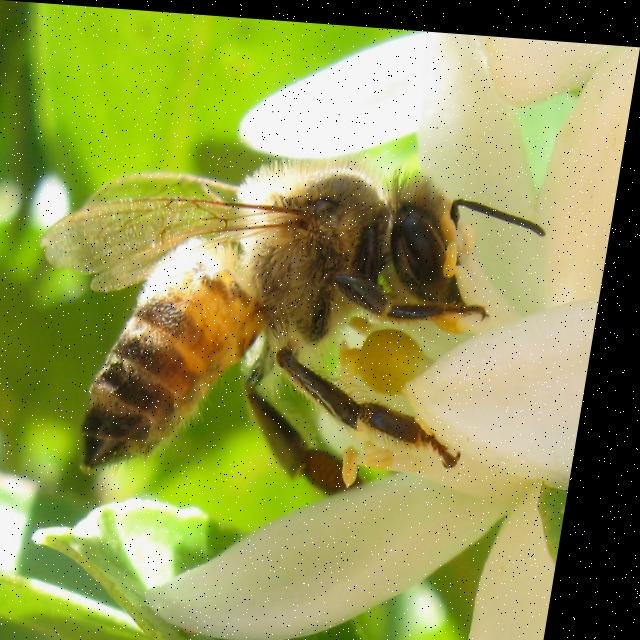Apis-mellifera-scutellata: (17, 89, 547, 511)
